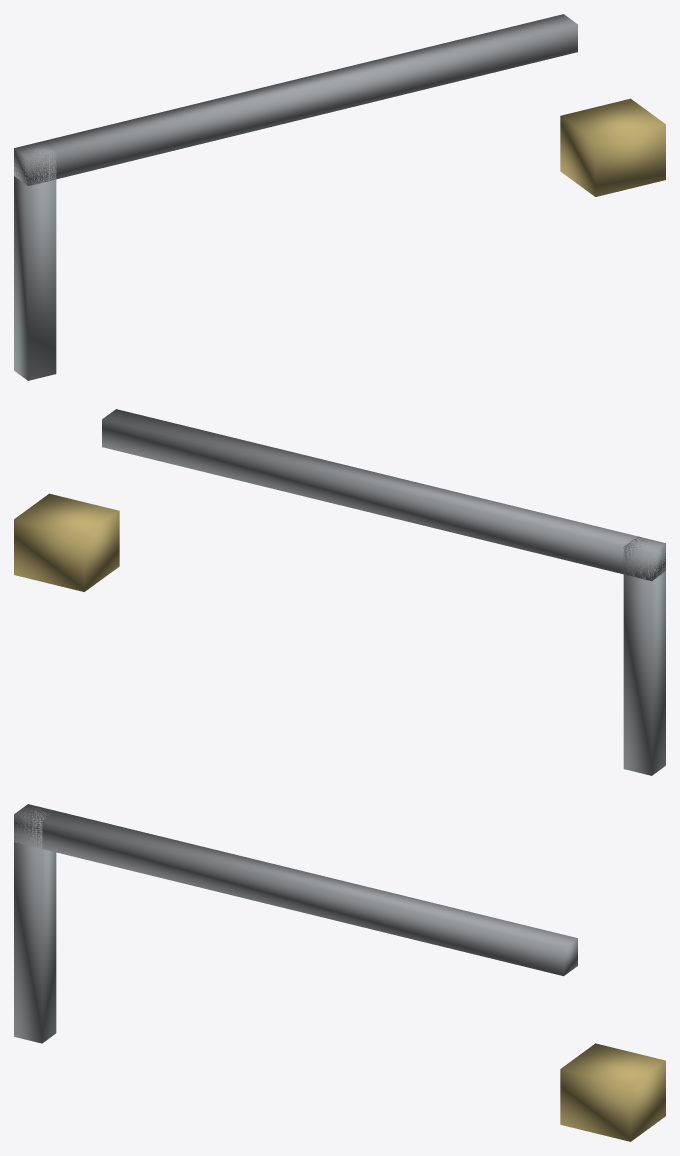
Rendered from grab_bar_11.glb.
3 views of the same model, one above another, from view 1: azimuth 30°, elevation 25°; view 2: azimuth 150°, elevation 25°; view 3: azimuth 330°, elevation 25° (orthographic).
Visible parts, largest first — view 1: world; view 2: world; view 3: world.
Boxes of the visible parts, x1,y1,x2,y2 form: world: [14, 14, 665, 380]; world: [14, 409, 665, 775]; world: [14, 804, 665, 1141].
Size of the model in its own units: 0.9256 by 0.3136 by 0.09.
